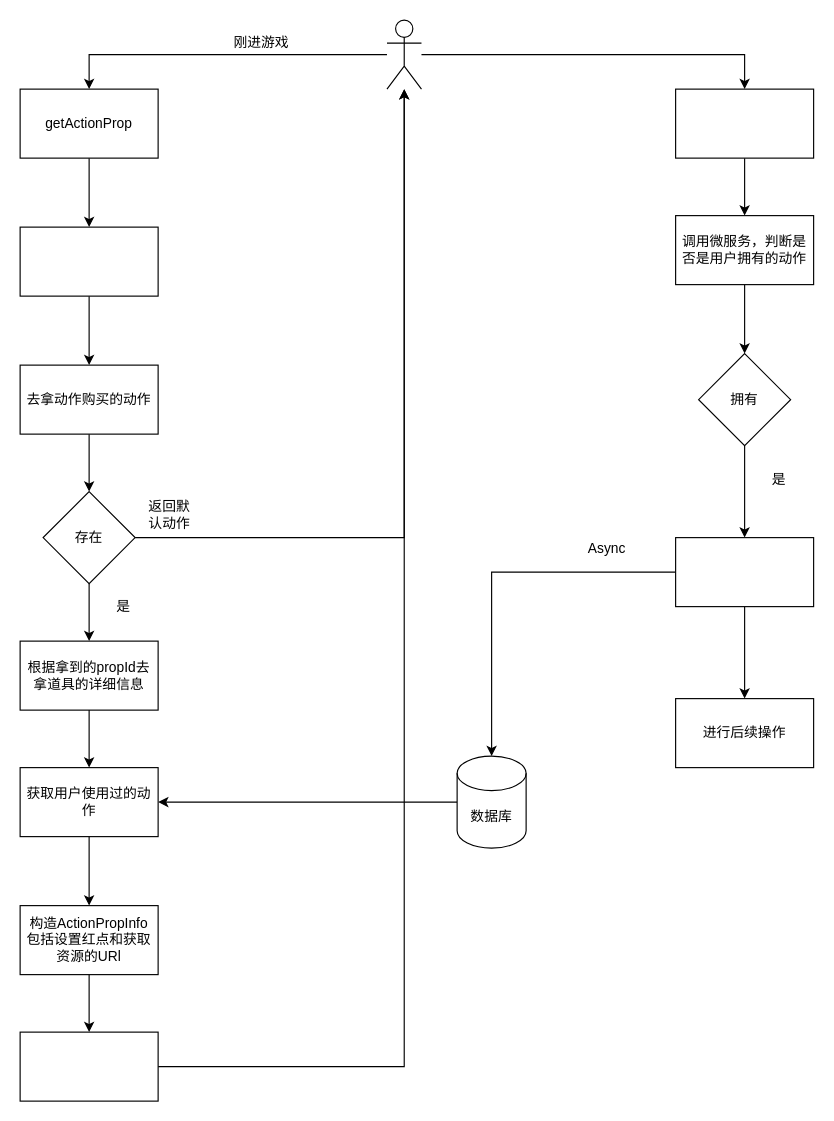
Image size: 834x1121. Some labels were removed from this diagram. Each missing label, with the centre of its shape:
"Actor" goes at [403,54].
"去拿默认动作" goes at [88,261].
"把用户拥有的动作和未拥有的动作分开，方便后续排序" goes at [88,1066].
"用户使用动作CMD:1083" goes at [744,123].
"调用入库微服务" goes at [744,571].
